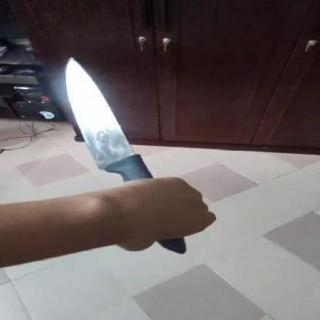knife: (44, 53, 173, 180)
